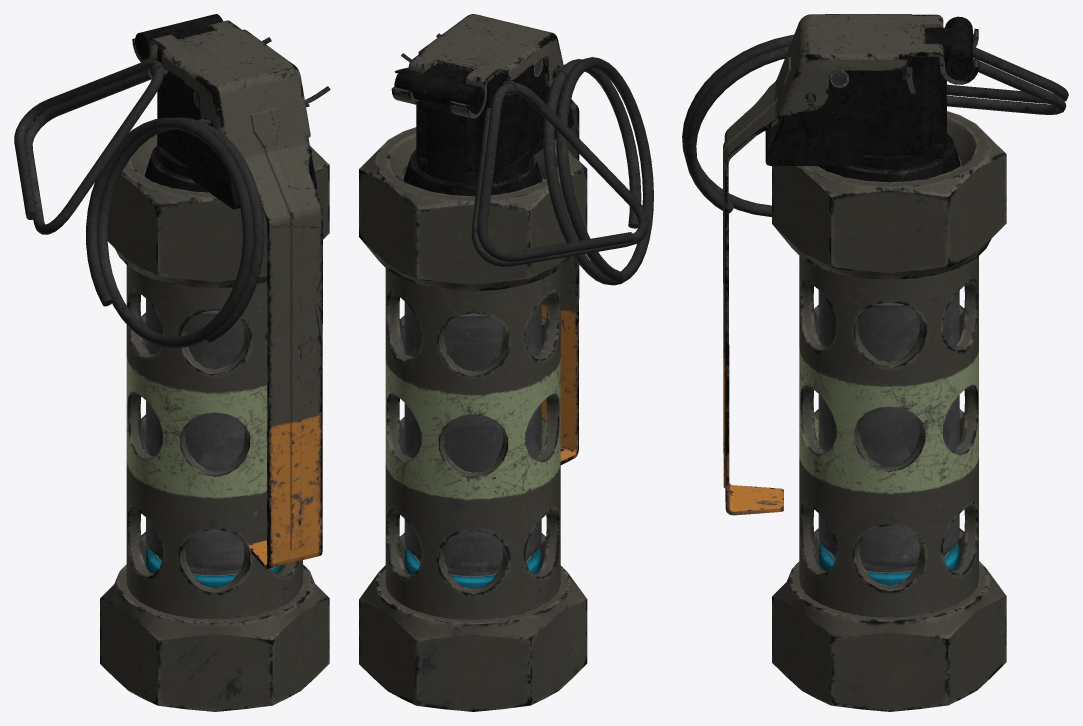
3 renders of one model, left to right at view 1: azimuth 30°, elevation 25°; view 2: azimuth 150°, elevation 25°; view 3: azimuth 270°, elevation 25°, orthographic. The views are drawn at different scales.
Parts seen in each view (by area): view 1: mesh_StunGrenade_Body, mesh_StunGrenade_Handle, mesh_StunGrenade_SafetyPin, mesh_StunGrenade_SecondaryPin; view 2: mesh_StunGrenade_Body, mesh_StunGrenade_Handle, mesh_StunGrenade_SafetyPin, mesh_StunGrenade_SecondaryPin; view 3: mesh_StunGrenade_Body, mesh_StunGrenade_Handle, mesh_StunGrenade_SafetyPin, mesh_StunGrenade_SecondaryPin.
Boxes of the visible parts, <box> form: mesh_StunGrenade_Body: <box>100,14,329,711</box>; mesh_StunGrenade_Handle: <box>132,20,322,568</box>; mesh_StunGrenade_SafetyPin: <box>86,86,330,348</box>; mesh_StunGrenade_SecondaryPin: <box>14,37,271,234</box>; mesh_StunGrenade_Body: <box>359,58,587,711</box>; mesh_StunGrenade_Handle: <box>391,14,579,464</box>; mesh_StunGrenade_SafetyPin: <box>436,33,653,285</box>; mesh_StunGrenade_SecondaryPin: <box>394,53,648,266</box>; mesh_StunGrenade_Body: <box>765,16,1006,711</box>; mesh_StunGrenade_Handle: <box>723,14,978,515</box>; mesh_StunGrenade_SafetyPin: <box>682,34,814,216</box>; mesh_StunGrenade_SecondaryPin: <box>902,47,1068,114</box>.
Bounding box in the file's own units: 0.0774 × 0.1758 × 0.097.
Materials: 1 (1 with a texture image).
